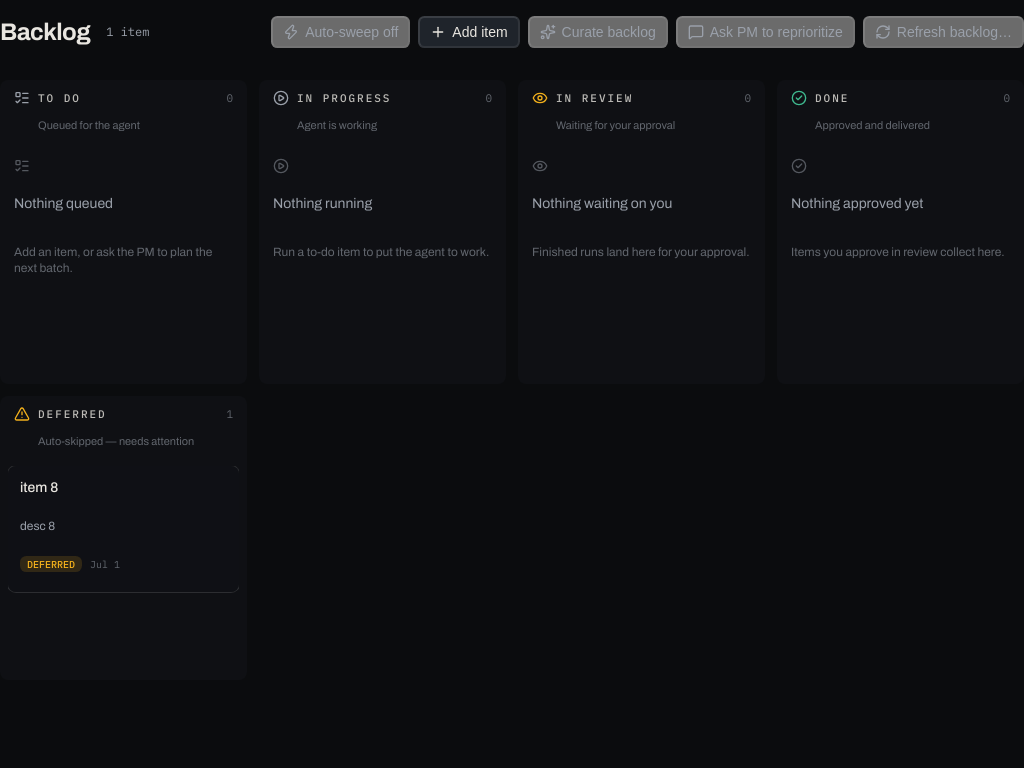
curate › the run controls stay gated on todo, so un-deferring is what reveals them
Click the text "item 8" at (39, 487), box [20,480,58,495]
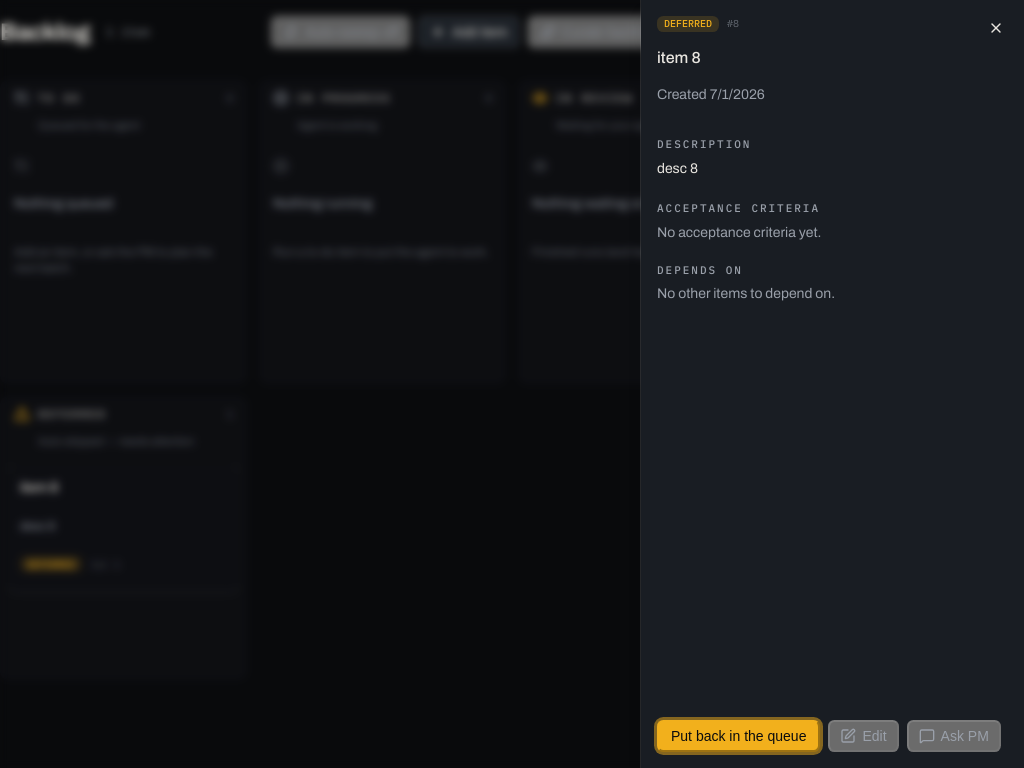
Result: the button "Put back in the queue" is shown at [657,720,820,752]
